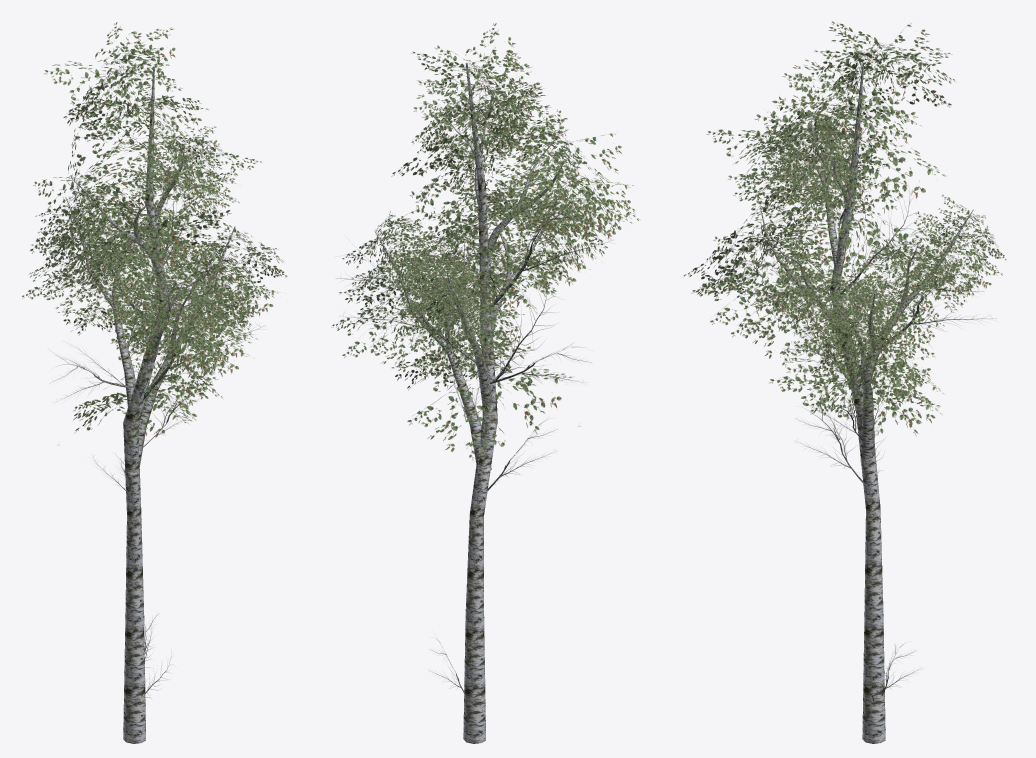
File: birch.glb
3 views of the same model, side by side, from view 1: azimuth 30°, elevation 25°; view 2: azimuth 150°, elevation 25°; view 3: azimuth 270°, elevation 25° (orthographic). The views are drawn at different scales.
Parts seen in each view (by area): view 1: birch13m; view 2: birch13m; view 3: birch13m.
Boxes of the visible parts, x1,y1,x2,y2 form: birch13m: [22, 22, 287, 743]; birch13m: [331, 23, 639, 743]; birch13m: [683, 21, 1006, 743].
Size of what is drawn, in the model's own units: 533 by 1308 by 568.
Materials: 3 (3 with a texture image).
